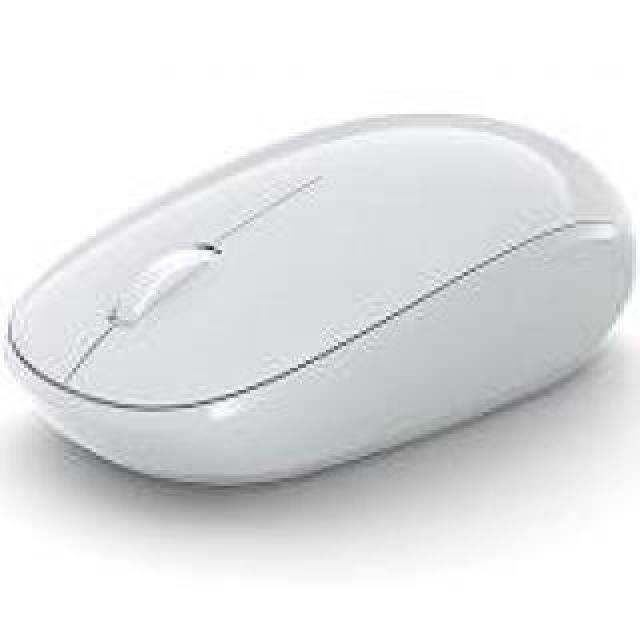mouse: (54, 55, 629, 533)
